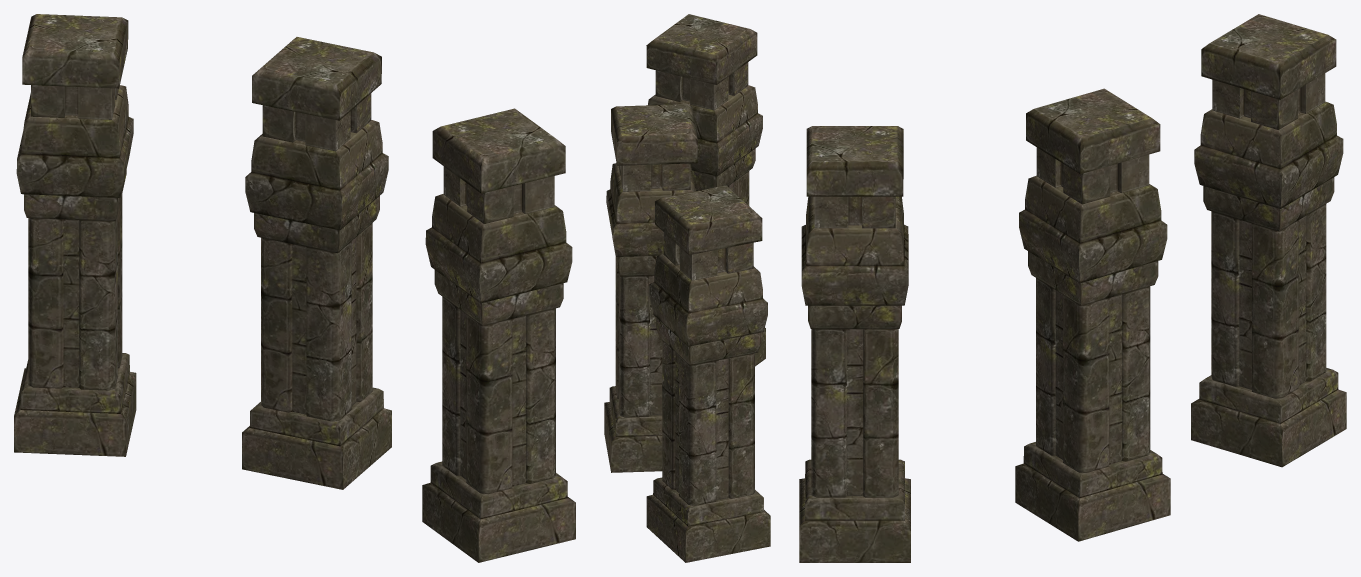
Rendered from Column_Group_04-transformed.glb.
3 views of the same model, side by side, from view 1: azimuth 30°, elevation 25°; view 2: azimuth 150°, elevation 25°; view 3: azimuth 270°, elevation 25° (orthographic). The views are drawn at different scales.
Parts seen in each view (by area): view 1: default; view 2: default; view 3: default.
Part boxes in pixels (x1,y1,x2,y2): default: (14, 14, 575, 562); default: (604, 14, 770, 562); default: (799, 14, 1346, 562).
Size of the model in its own units: 4.68 by 5.34 by 6.71.
Materials: 1 (1 with a texture image).
